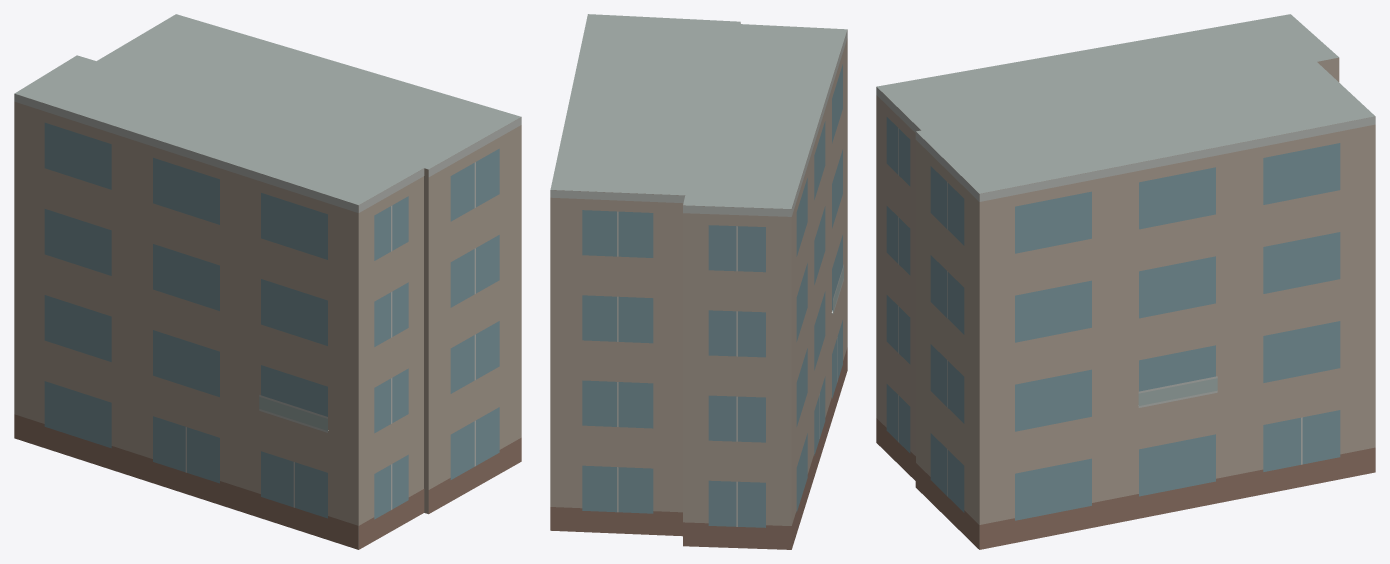
The model's file is survey-upis-32675406.glb.
3 renders of one model, left to right at view 1: azimuth 30°, elevation 25°; view 2: azimuth 150°, elevation 25°; view 3: azimuth 270°, elevation 25°, orthographic. The views are drawn at different scales.
Visible parts, largest first — view 1: survey-upis-32675406.tmp; view 2: survey-upis-32675406.tmp; view 3: survey-upis-32675406.tmp.
Part boxes in pixels (left/top/right/bottom): survey-upis-32675406.tmp: left=14, top=14, right=521, bottom=549; survey-upis-32675406.tmp: left=550, top=14, right=847, bottom=549; survey-upis-32675406.tmp: left=876, top=14, right=1375, bottom=549.
Bounding box in the file's own units: 11.43 × 10.55 × 13.41.
